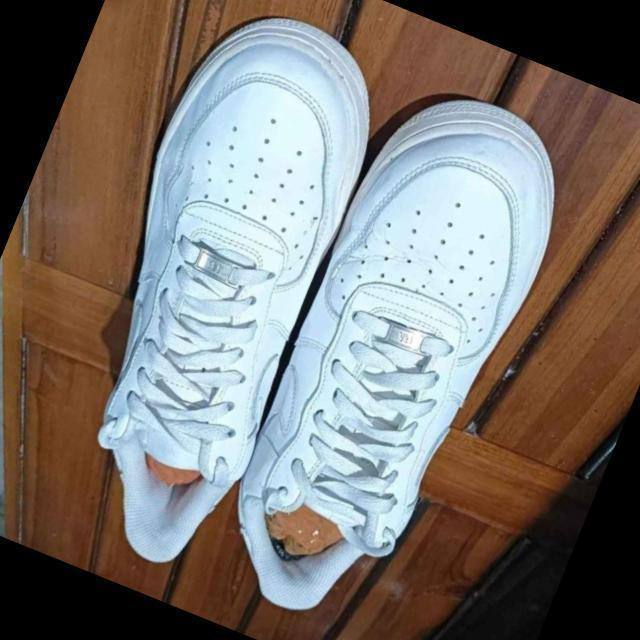nike fake air force: (10, 0, 403, 578), (200, 68, 590, 640)
